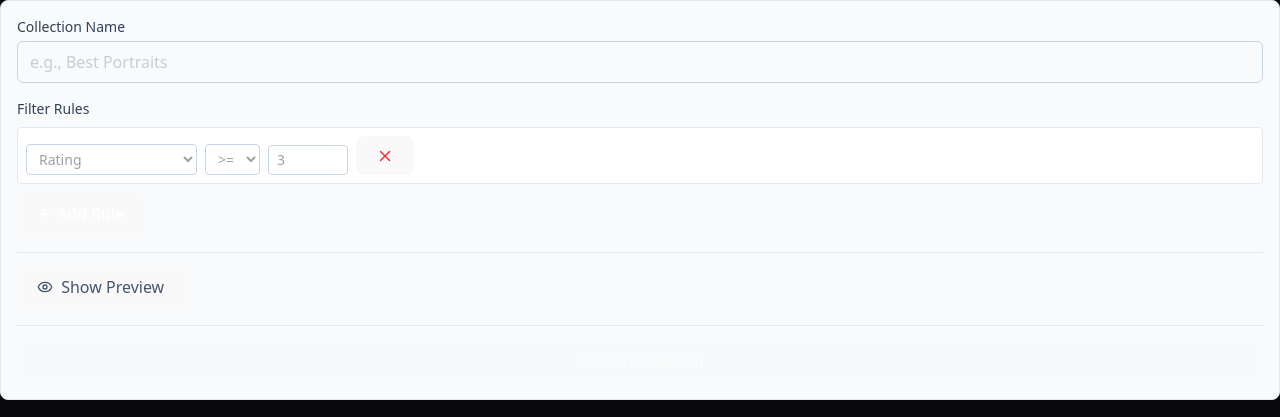
Test case: SmartCollectionBuilder › should update operator based on selected field
Select "Filename" in the dropdown named "Filter field": (112, 160) top-left (26, 144), bottom-right (197, 175)
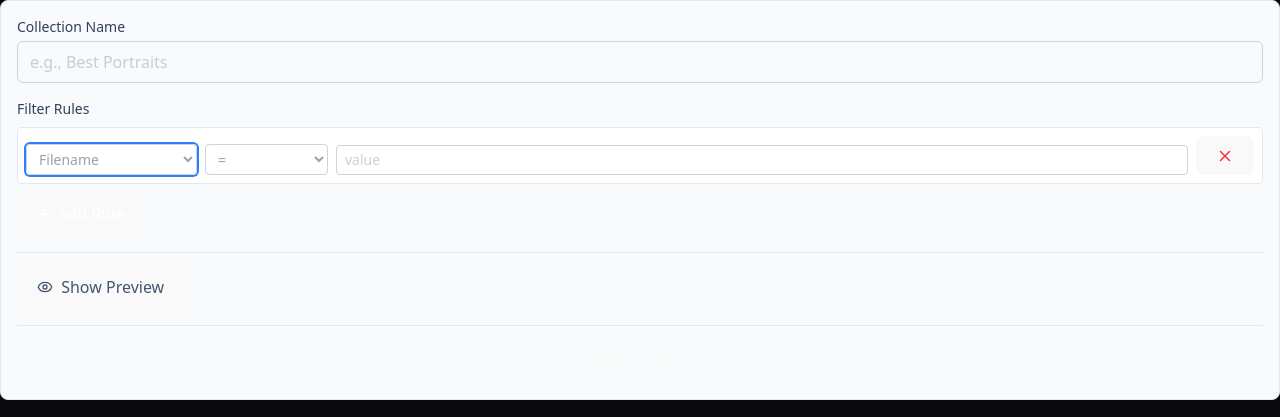
expect the dropdown named "Filter operator" shows "=": met, box top-left (205, 144), bottom-right (328, 175)
